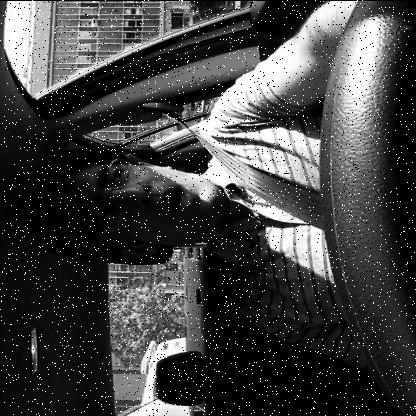seatbelt: (27, 110, 321, 286)
